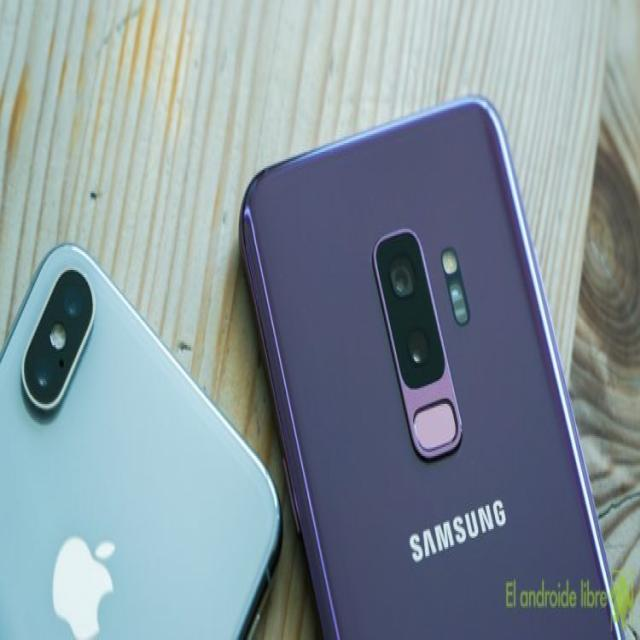mobile phone: (237, 91, 626, 637), (0, 239, 282, 636)
